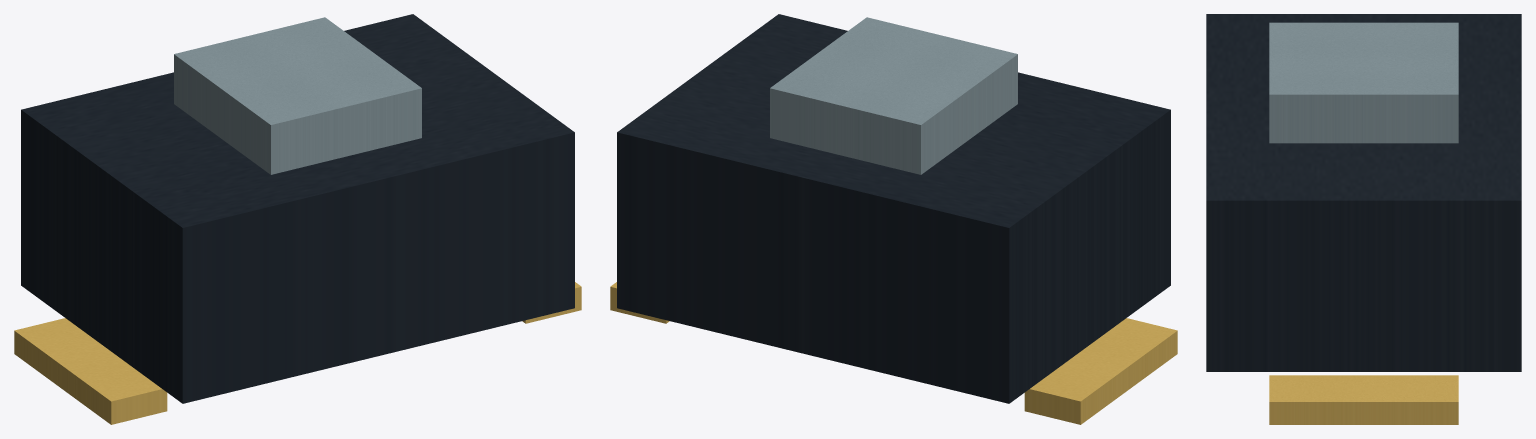
3 views of the same model, side by side, from view 1: azimuth 30°, elevation 25°; view 2: azimuth 150°, elevation 25°; view 3: azimuth 270°, elevation 25° (orthographic). The views are drawn at different scales.
Parts seen in each view (by area): view 1: 263_L120_SW2; view 2: 263_L120_SW2; view 3: 263_L120_SW2.
Boxes of the visible parts, x1,y1,x2,y2 form: 263_L120_SW2: [14, 14, 581, 424]; 263_L120_SW2: [610, 14, 1177, 424]; 263_L120_SW2: [1206, 14, 1521, 424].
Size of the model in its own units: 0.0084 by 0.00445 by 0.005.
Materials: 3 (3 with a texture image).
